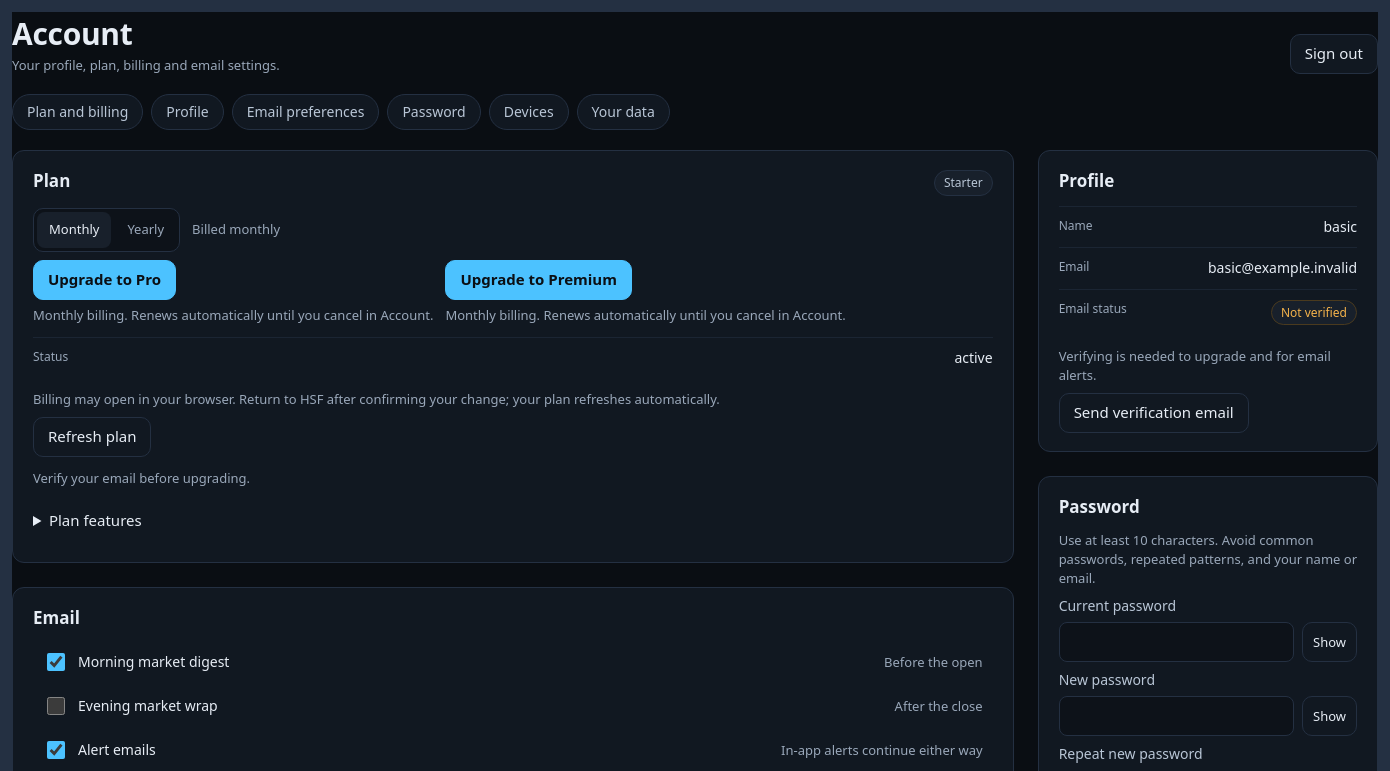
Test: Account › unverified: says why and resends the verification email
The image size is (1390, 771).
Expected: the text "Not verified" is shown, [1271,300,1357,325]
Expected: the text "Verify your email before upgrading." is shown, [33,469,250,487]
Click the button "Send verification email". click: coordinates (1154, 413)
box: [1059,393,1249,433]
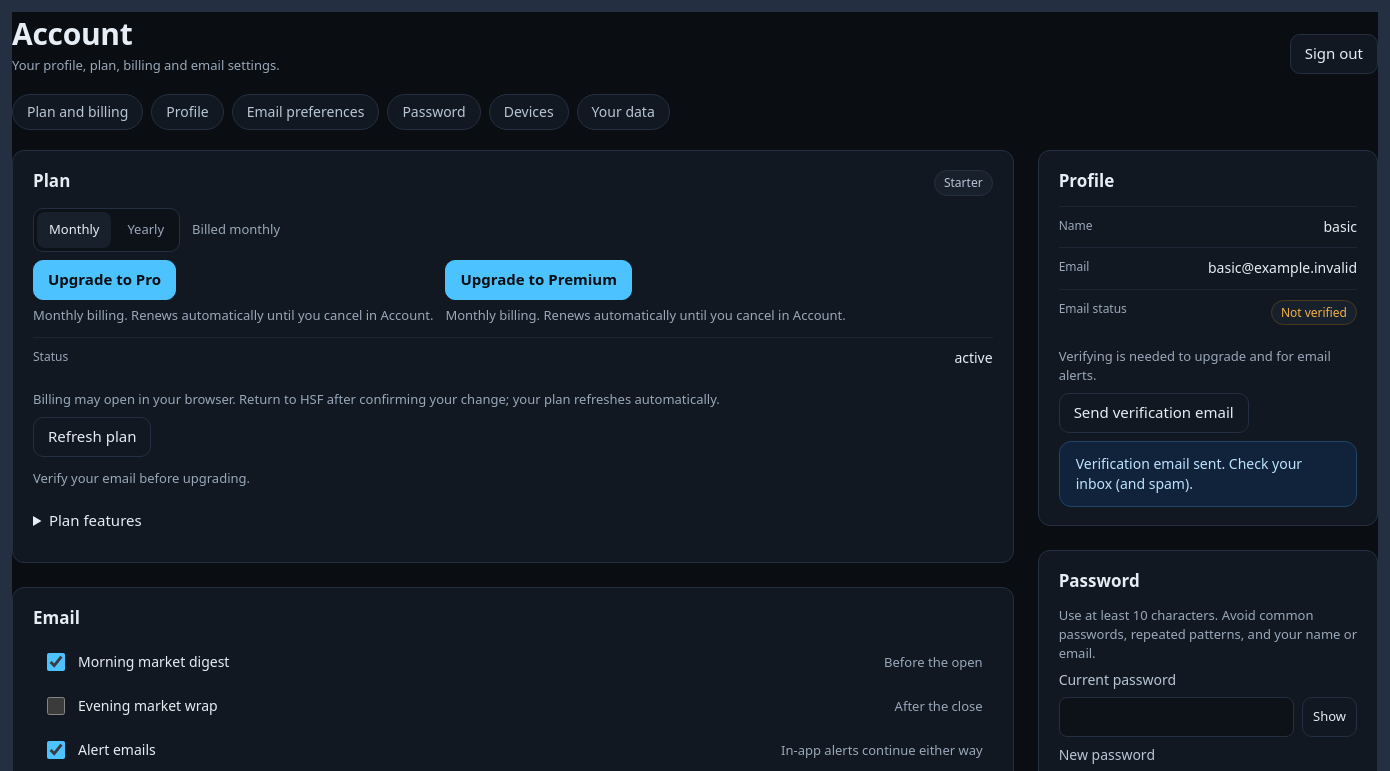
Result: the text "Verification email sent. Check your inbox (and spam)." is shown at [1059,441,1357,507]
